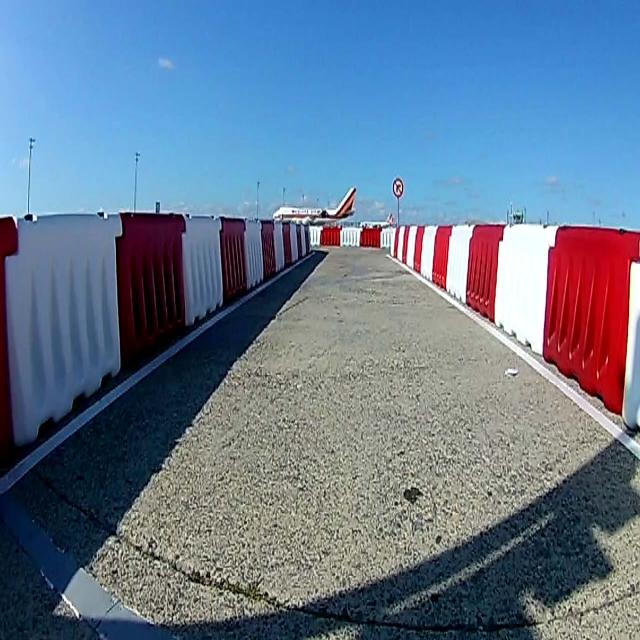sagadonulmez: (391, 176, 404, 199)
